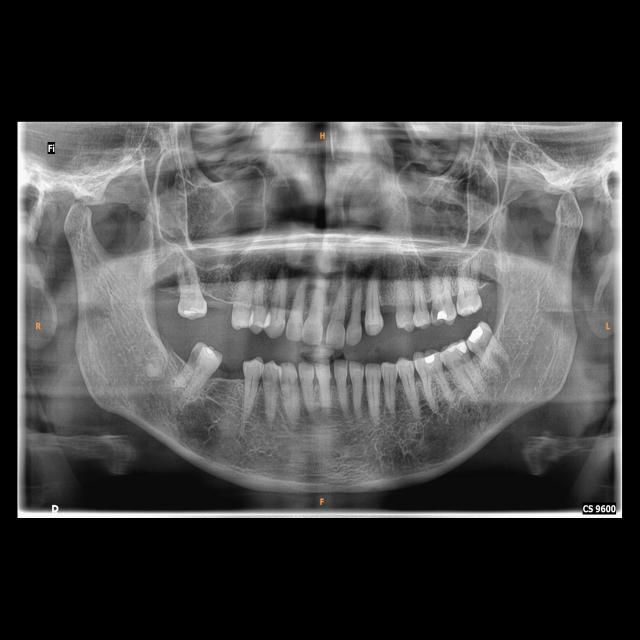dentin-curugu: (188, 346, 202, 369), (431, 302, 438, 319)
dolgu: (465, 323, 489, 344), (447, 342, 467, 358), (421, 352, 438, 368), (437, 306, 449, 322)
